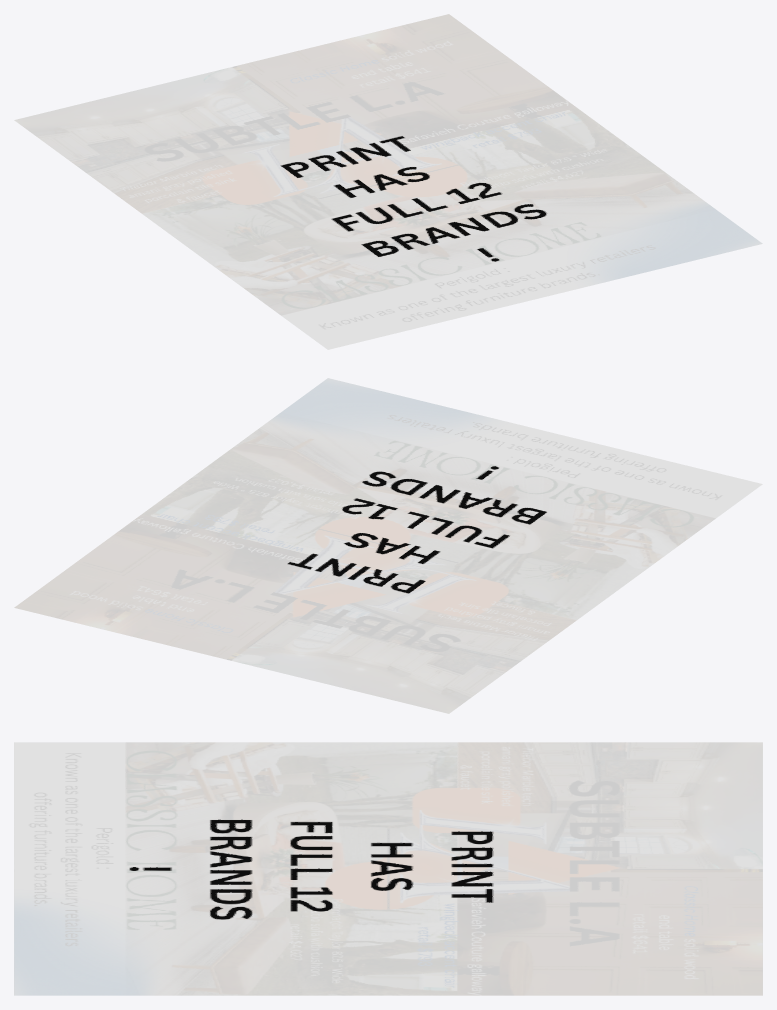
The model's file is widewonder7.glb.
3 views of the same model, one above another, from view 1: azimuth 30°, elevation 25°; view 2: azimuth 150°, elevation 25°; view 3: azimuth 270°, elevation 25° (orthographic). The views are drawn at different scales.
Visible parts, largest first — view 1: Plane; view 2: Plane; view 3: Plane.
Boxes of the visible parts, x1,y1,x2,y2 form: Plane: (14,14,762,349); Plane: (14,378,762,713); Plane: (14,742,762,995).
Bounding box in the file's own units: 0.4 × 0 × 0.5.
Materials: 1 (1 with a texture image).
